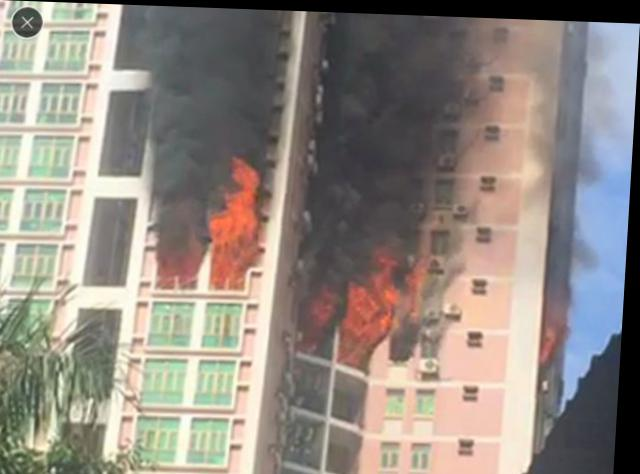fire: (349, 282, 396, 352), (208, 209, 264, 243), (216, 244, 256, 283), (228, 186, 263, 211), (233, 160, 263, 185)
